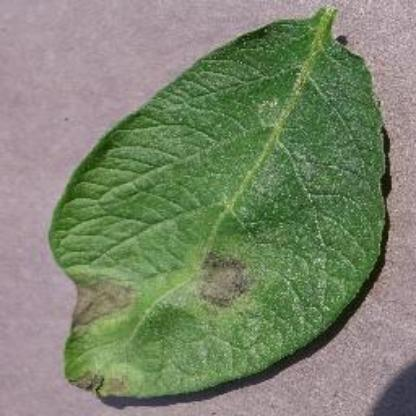Late-Blight: (30, 4, 393, 402)
